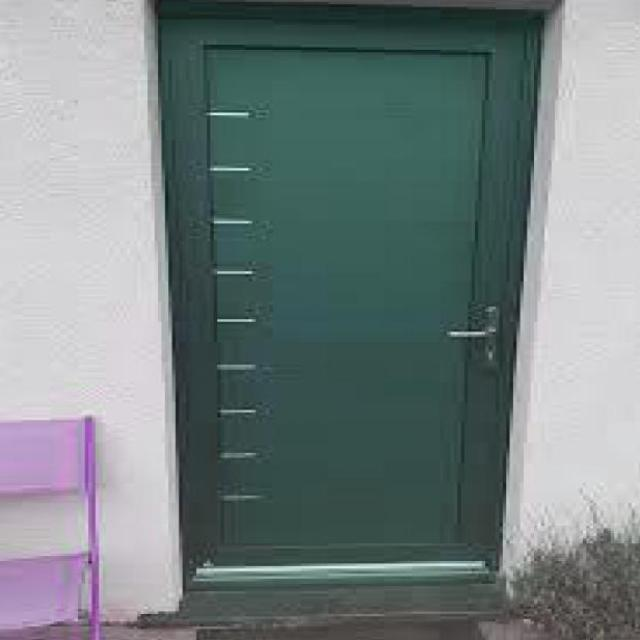door: (157, 11, 540, 587)
